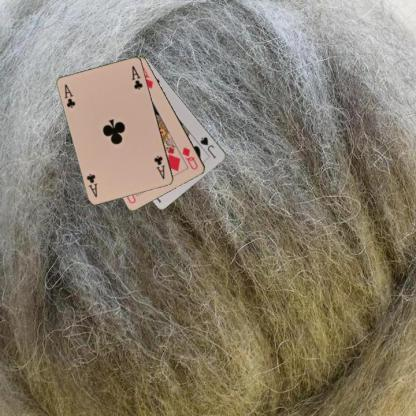Ac: (62, 82, 77, 109), (152, 153, 166, 180)
Js: (198, 134, 217, 160)
Qd: (175, 144, 199, 171)
